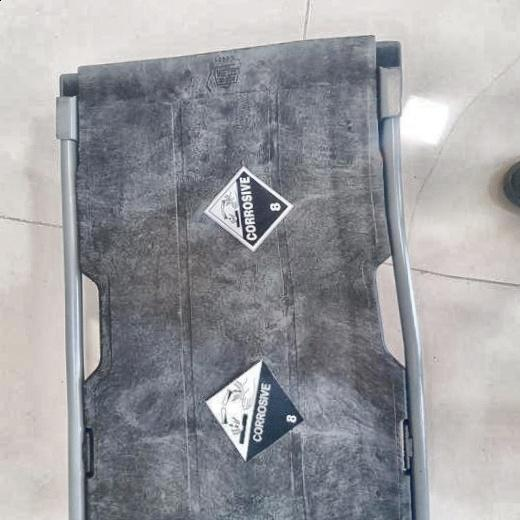corrosive: (204, 359, 303, 461), (203, 167, 298, 251)
